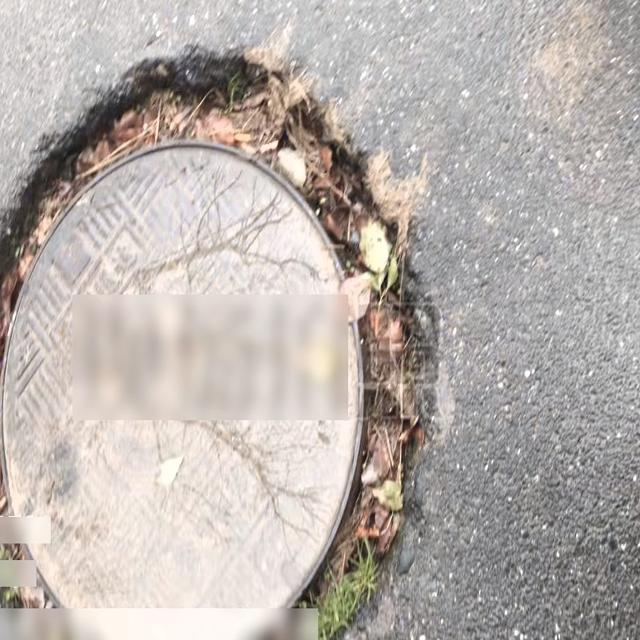circle: (0, 55, 438, 640)
